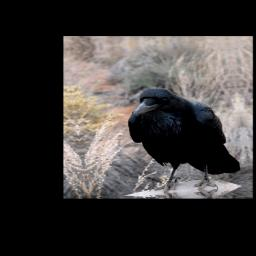Crow: (120, 81, 245, 194)
